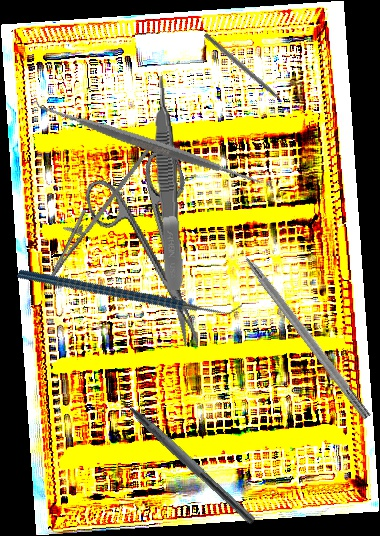Chopper: (16, 198, 244, 382), (103, 376, 266, 526)
Hook Surgical: (226, 232, 374, 421), (202, 32, 291, 110)
Iris Scissors: (78, 146, 237, 362)
Needle Holder: (36, 127, 154, 292)
Spatula Surgical: (33, 28, 265, 260)
Tissue Forceps: (151, 75, 186, 291)
